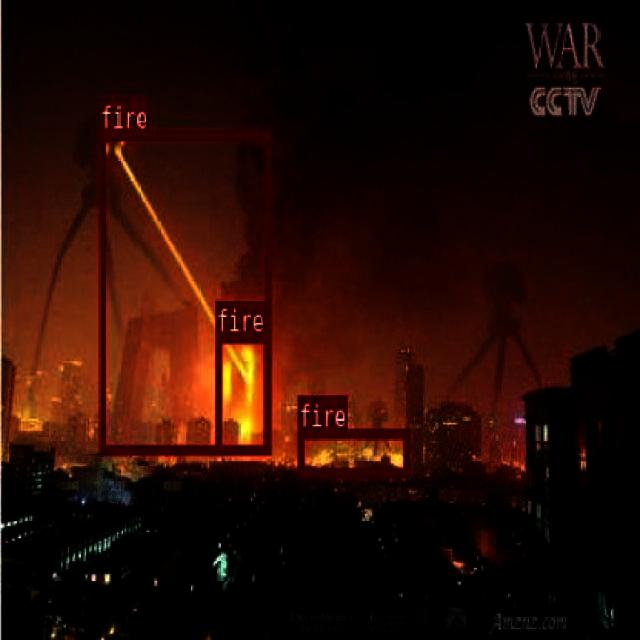fire: (98, 130, 270, 452), (214, 332, 268, 452), (297, 428, 408, 476)
